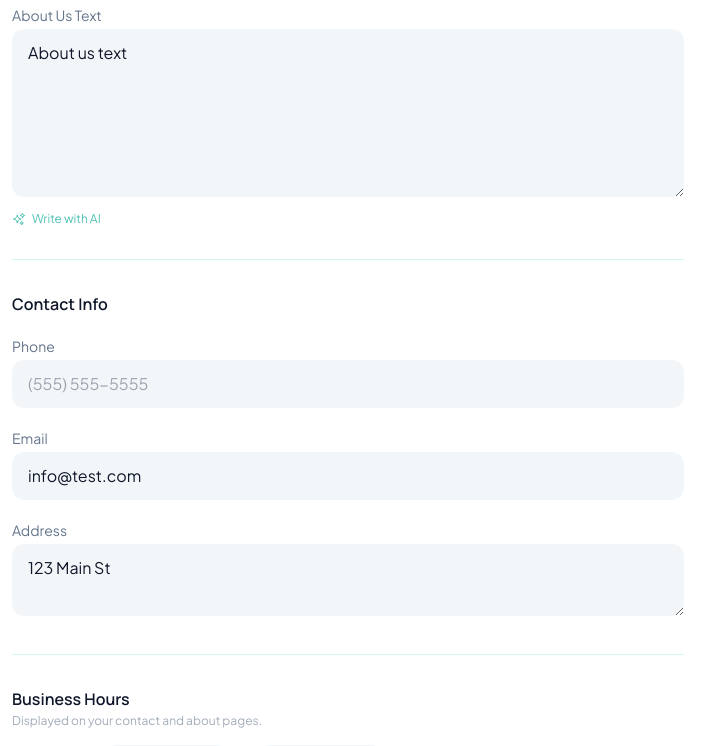
phone formatting › formats 10 digits as (XXX) XXX-XXXX
This screenshot has width=702, height=746.
(page scrolled)
Type "5551234567" into the field labelled "Phone" at [348, 384], box [12, 360, 684, 408]
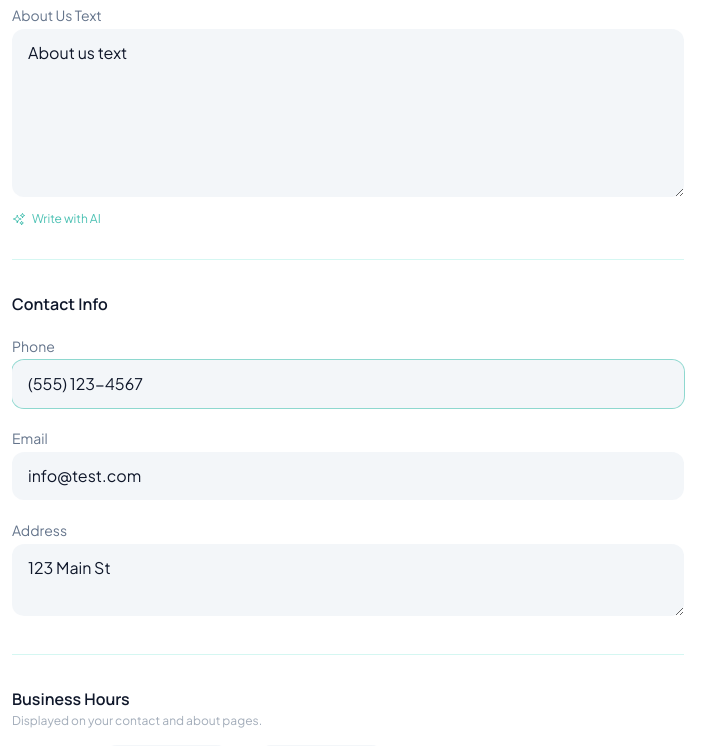
Expected: the field labelled "Phone" holds "(555) 123-4567", [12, 360, 684, 408]
